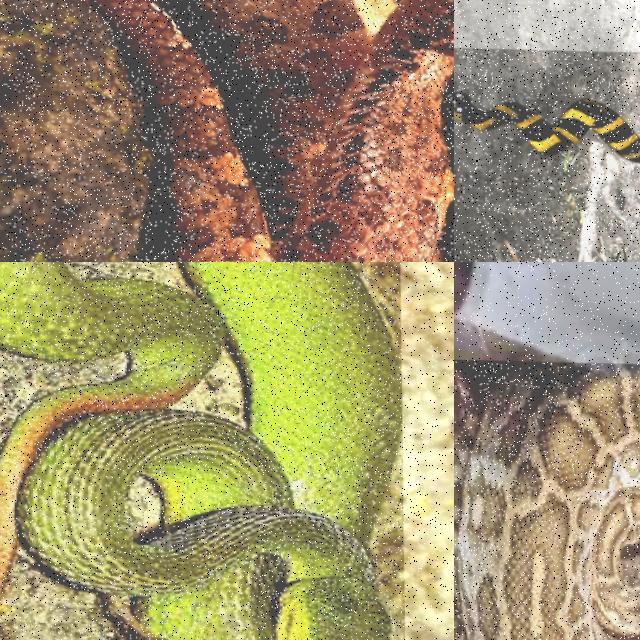Bungarus fasciatus: (454, 93, 639, 162)
Ovophis monticola: (92, 0, 453, 261)
Python bivittatus: (454, 361, 639, 639)
Trimeresurus: (0, 262, 401, 639)
